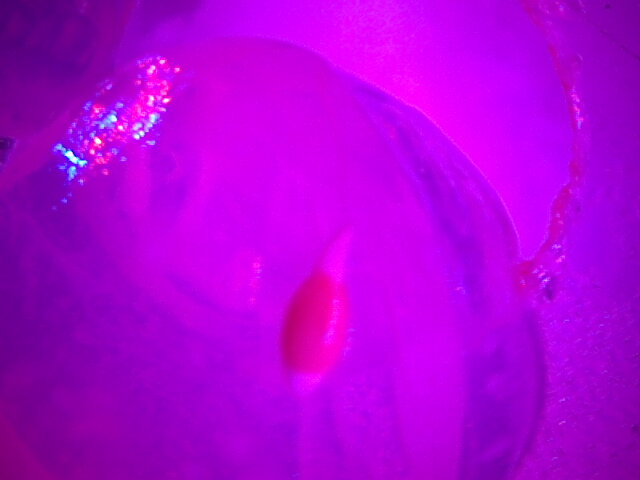sprout: (250, 221, 361, 402)
